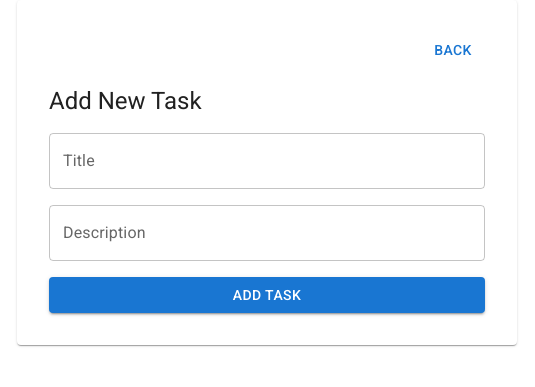
TaskForm › shows validation error when submitting empty form
The width and height of the screenshot is (535, 387).
What coordinates should you click on to do the following:
click the button "Add Task"
I would click on:
 (267, 295)
Its box is [49,276,485,313].
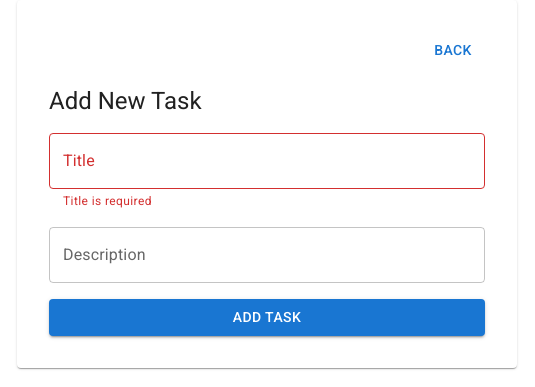
Expected: the text "Title is required" is shown, [63,194,152,208]
